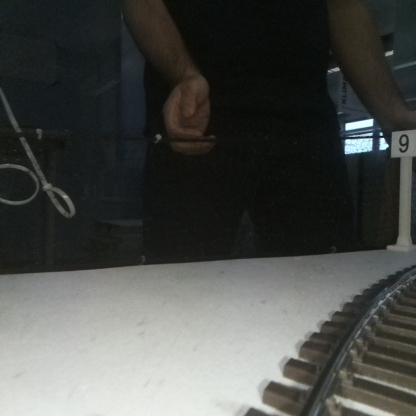white-info-9: (391, 131, 416, 249)
